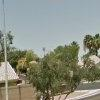Tree: (17, 35, 88, 99)
